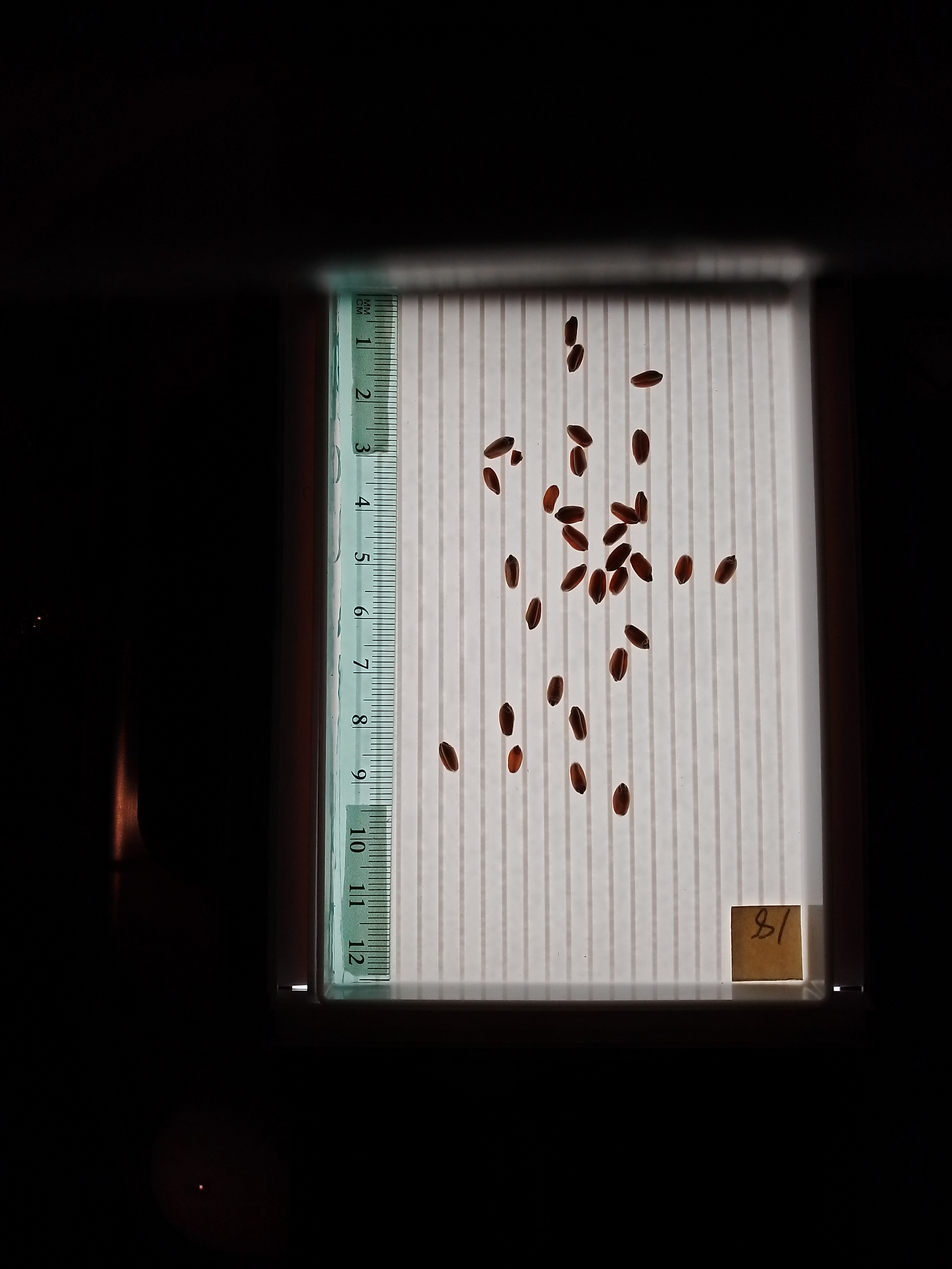seed mask: (561, 565, 586, 592), (606, 544, 631, 570), (632, 430, 650, 465), (609, 648, 628, 681), (563, 526, 587, 552), (631, 554, 653, 582), (715, 556, 737, 584), (484, 437, 513, 458), (625, 625, 649, 650), (439, 742, 459, 772), (589, 569, 606, 604), (569, 707, 587, 740), (631, 370, 662, 389), (611, 503, 639, 524), (567, 425, 592, 448), (613, 784, 630, 816), (569, 446, 587, 476), (556, 505, 584, 524), (603, 523, 626, 546), (570, 763, 587, 793), (526, 598, 542, 629), (675, 556, 692, 585), (547, 676, 564, 705), (610, 568, 628, 595), (499, 704, 514, 735), (567, 345, 584, 372), (505, 556, 519, 588), (483, 468, 500, 494), (543, 486, 559, 513), (507, 746, 523, 773), (635, 492, 648, 523), (565, 317, 578, 346)
